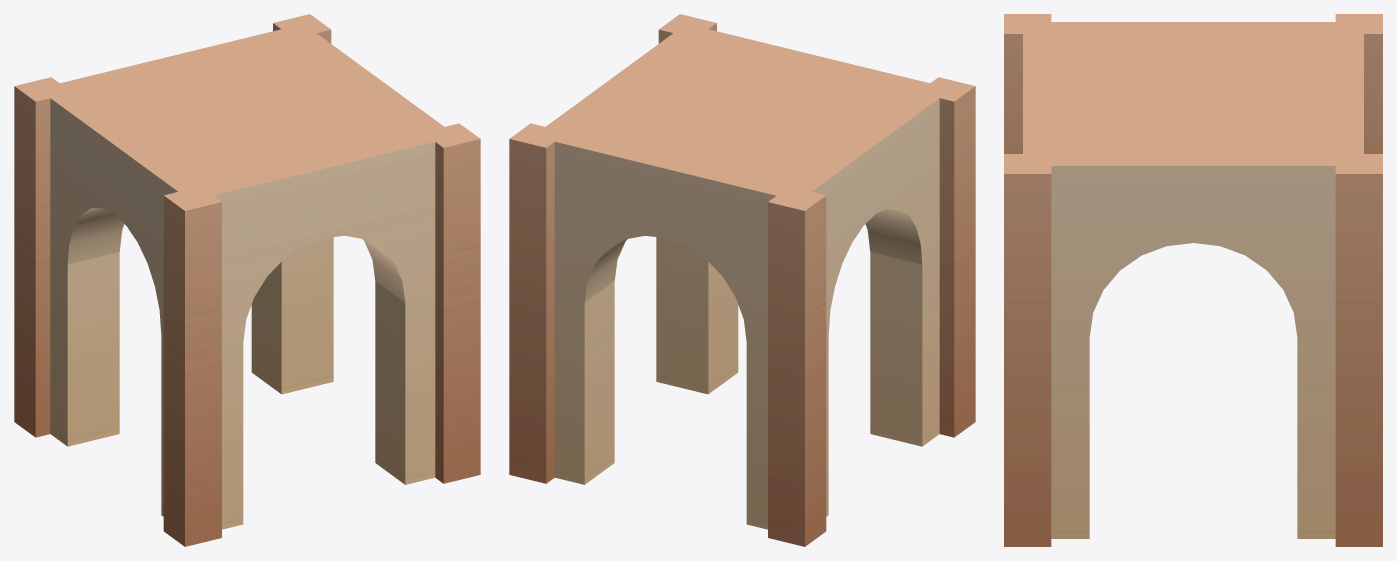
The model's file is tower-square-arch.glb.
The picture shows the model from 3 angles, left to right: view 1: azimuth 30°, elevation 25°; view 2: azimuth 150°, elevation 25°; view 3: azimuth 270°, elevation 25°; orthographic projection. The views are drawn at different scales.
Parts seen in each view (by area): view 1: tower-square-arch; view 2: tower-square-arch; view 3: tower-square-arch.
Part boxes in pixels (x1=…): tower-square-arch: x1=14, y1=14, x2=480, y2=546; tower-square-arch: x1=509, y1=14, x2=975, y2=546; tower-square-arch: x1=1004, y1=14, x2=1382, y2=546.
Bounding box in the file's own units: 0.93 × 1.01 × 0.93.
Materials: 1 (1 with a texture image).
